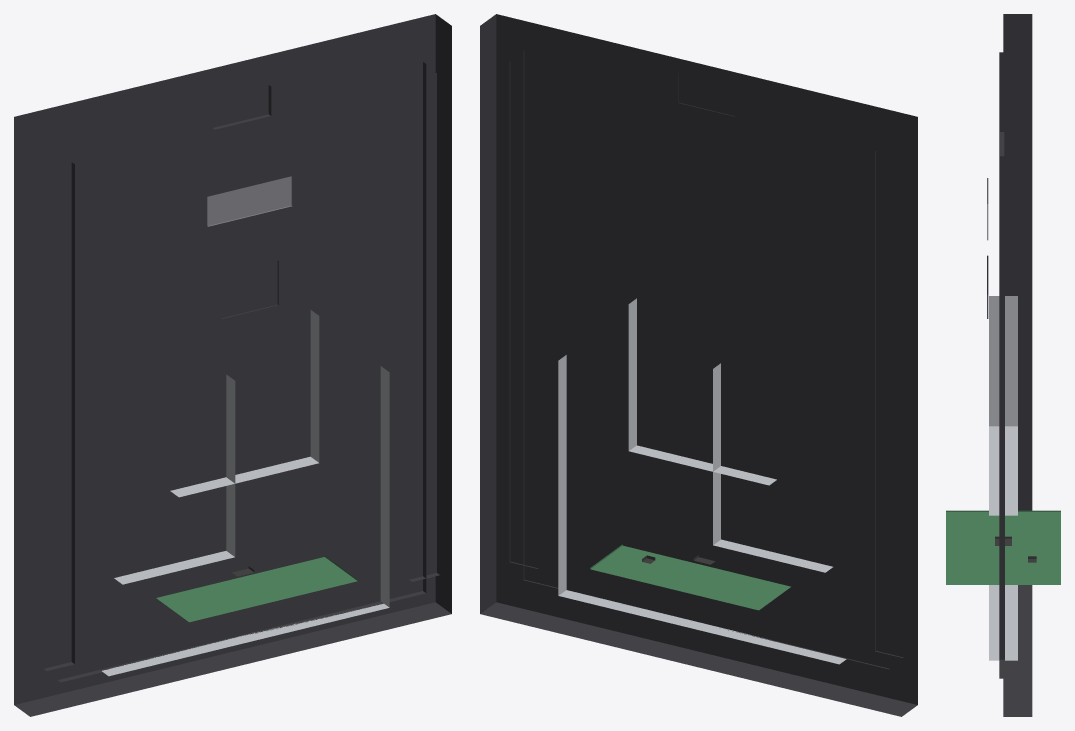
The model's file is coin_door.gltf.
The picture shows the model from 3 angles, left to right: view 1: azimuth 30°, elevation 25°; view 2: azimuth 150°, elevation 25°; view 3: azimuth 270°, elevation 25°; orthographic projection. The views are drawn at different scales.
Visible parts, largest first — view 1: coin_door; view 2: coin_door; view 3: coin_door.
Part boxes in pixels (x1,y1,x2,y2): coin_door: (14,14,451,716); coin_door: (480,14,917,716); coin_door: (946,14,1060,716).
Size of the model in its own units: 0.3 by 0.4 by 0.08.
